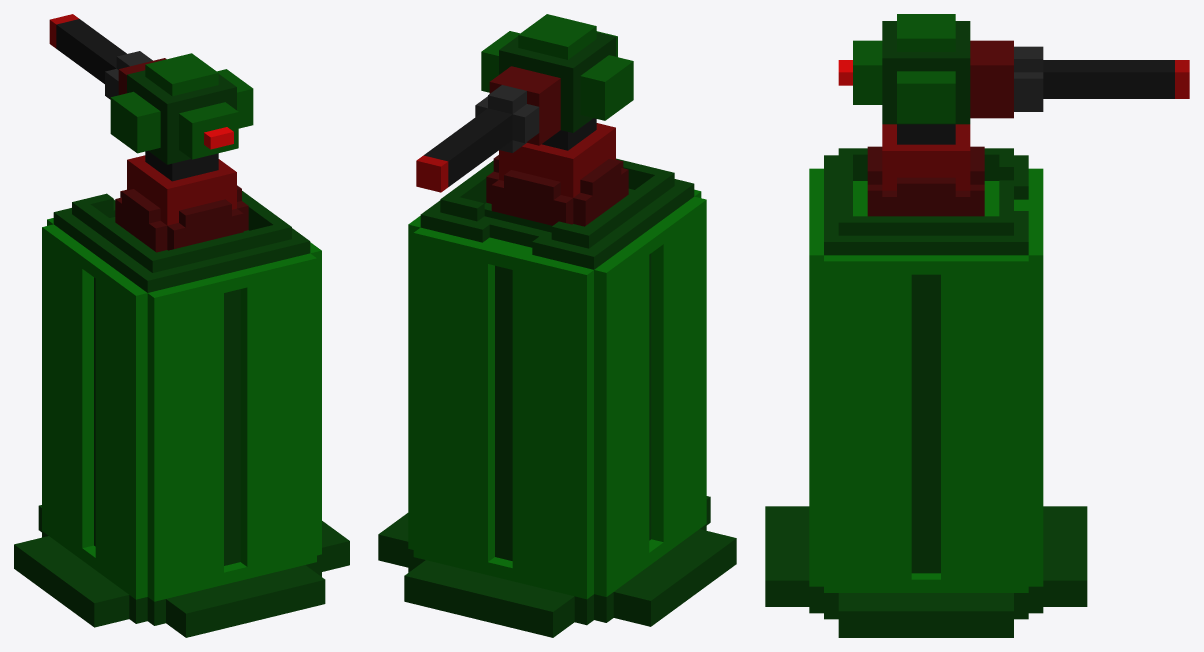
The model's file is basicUpgraded2-1.obj.
3 views of the same model, side by side, from view 1: azimuth 30°, elevation 25°; view 2: azimuth 150°, elevation 25°; view 3: azimuth 270°, elevation 25° (orthographic). The views are drawn at different scales.
Bounding box in the file's own units: 2.2 × 4.1 × 2.9.
Materials: 1 (1 with a texture image).
